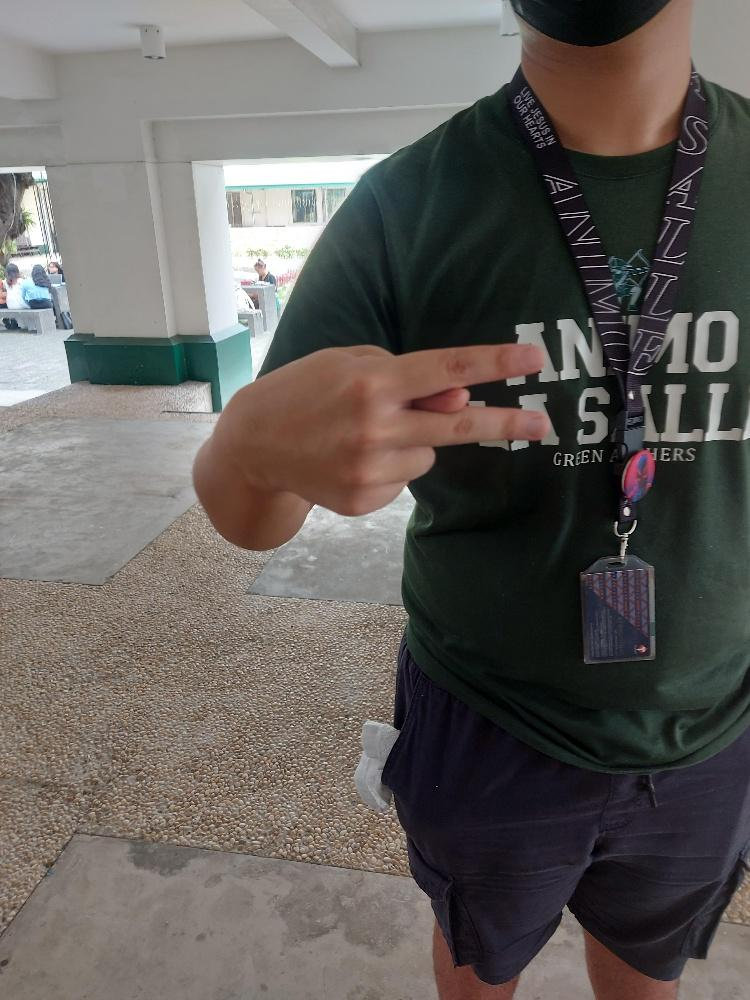k: (228, 338, 548, 520)
